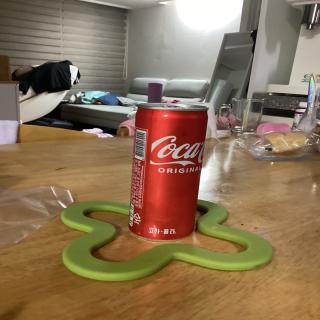cocacola: (126, 98, 210, 244)
